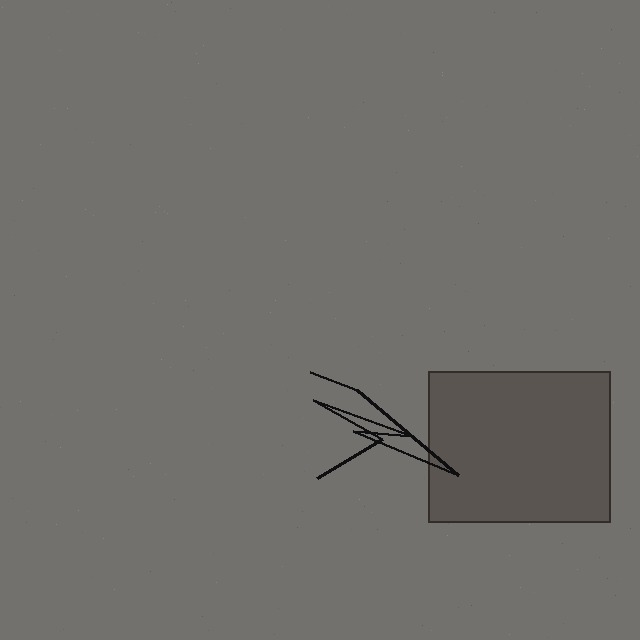concrete_damage: (428, 371, 610, 522)
crocodile_crack: (258, 358, 474, 532)
